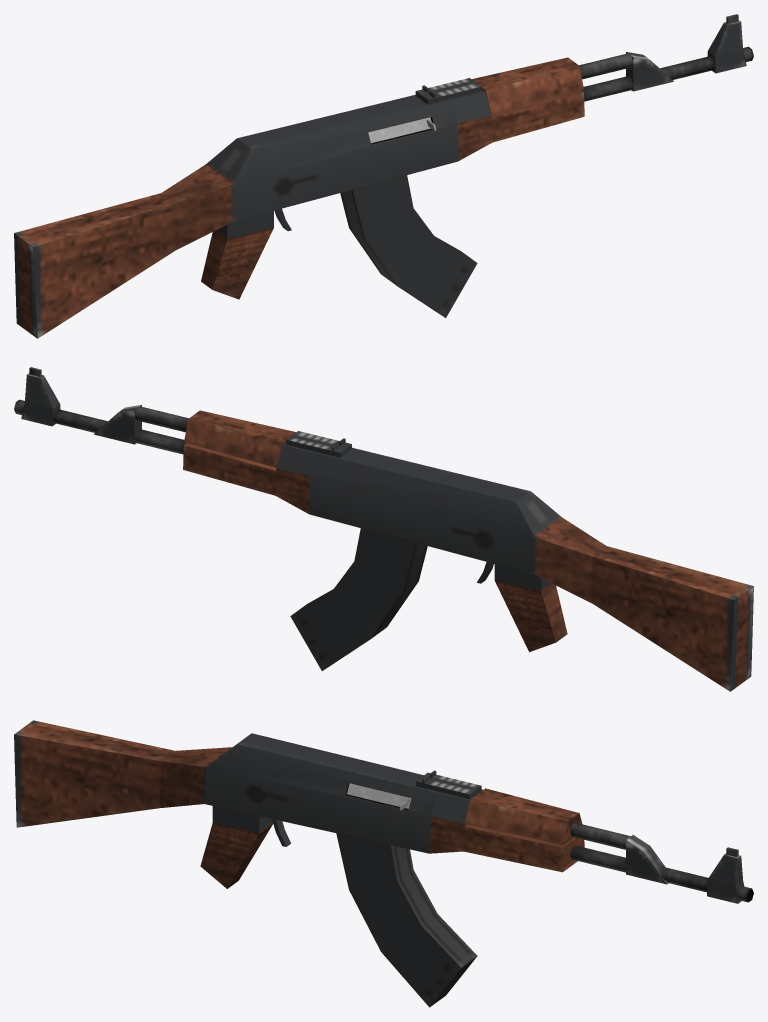
3 renders of one model, top to bottom at view 1: azimuth 30°, elevation 25°; view 2: azimuth 150°, elevation 25°; view 3: azimuth 330°, elevation 25°, orthographic.
Parts seen in each view (by area): view 1: Box001, -6,606cm; view 2: Box001; view 3: Box001, -6,606cm.
Part boxes in pixels (x1,y1,x2,y2): Box001: (14,14,753,338); -6,606cm: (368,117,436,143); Box001: (14,367,753,691); Box001: (14,720,753,1007); -6,606cm: (347,783,411,810).
Size of the model in its own units: 2.61 by 0.771 by 0.2015.
1 material, 1 textured.
